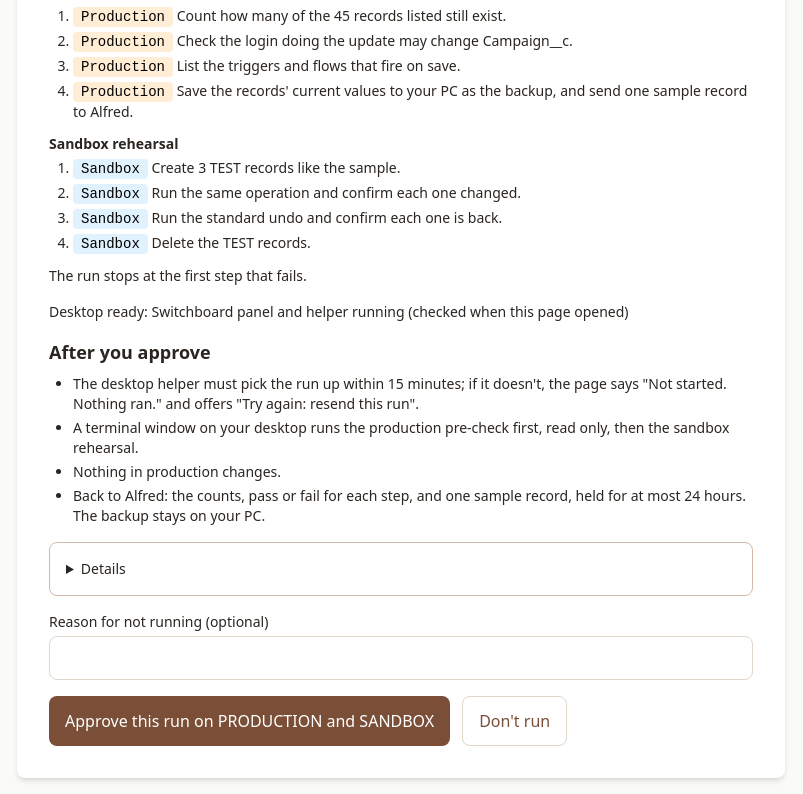
a pretend page › the sent text says a pretend run went to the helper, its data made up
(page scrolled)
Check: the text with test id "run-desktop" does not show "Checking", box [49,302,628,321]
What coordinates should you click on to do the following:
click the button with test id "run-approve"
I would click on:
 (250, 721)
Its box is [49,696,450,746].
(page scrolled)
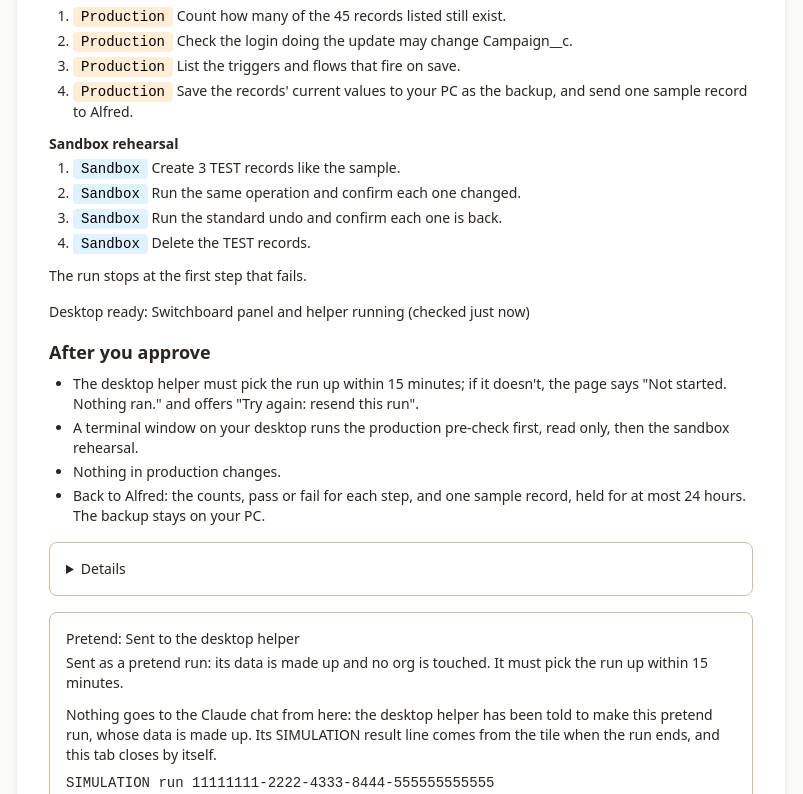
Check: the text with test id "run-sent-text" does not show "Nothing was sent", box [66,653,736,693]
Check: the text with test id "run-sent-text" shows "Sent as a pretend run: its data is made up and no org is touched. It must pick the run up within 15 minutes.", box [66,653,708,692]
